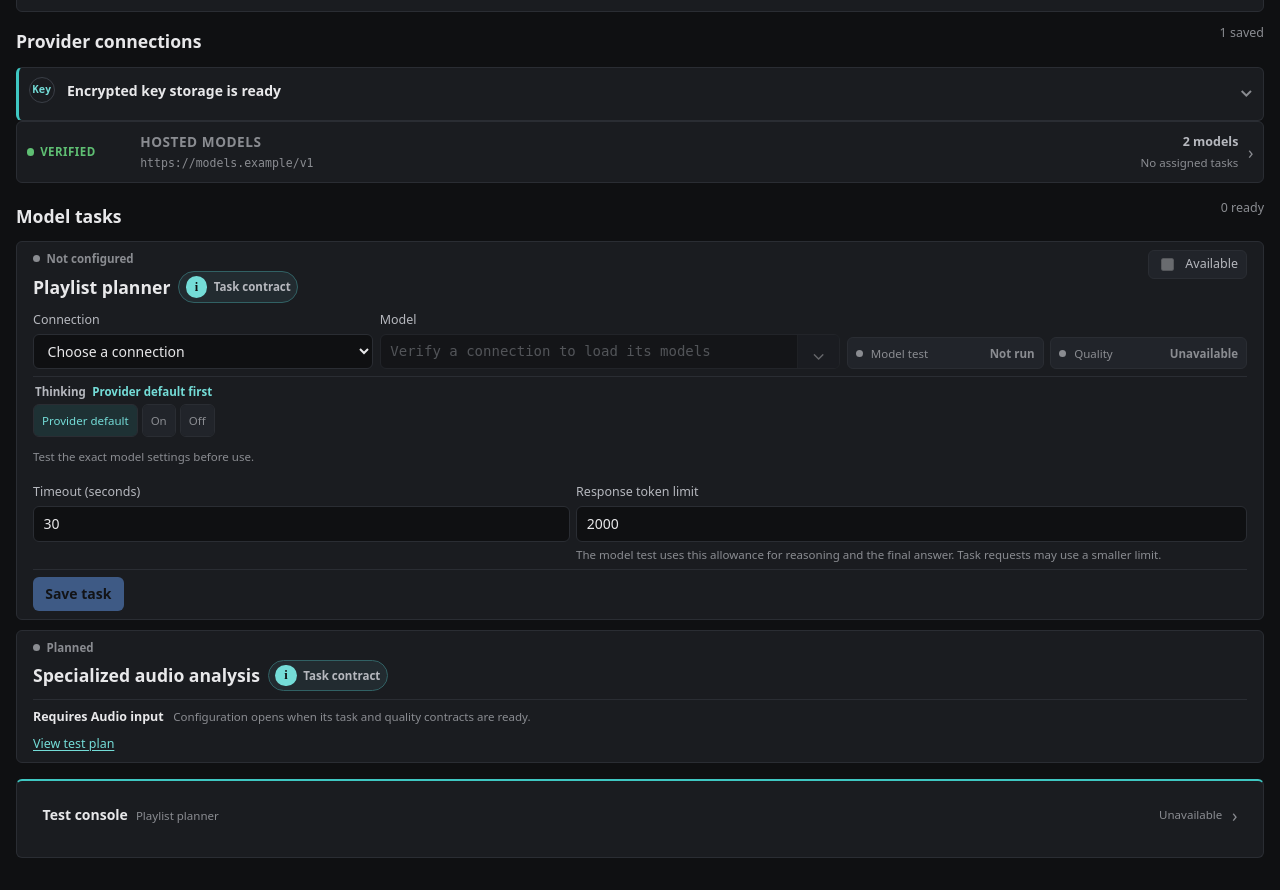
it: AssistantAiSetupView › keeps future capability-bound tasks visibly planned and locked
The image size is (1280, 890).
(page scrolled)
Check: the element "Specialized audio analysis" is shown, box [16, 630, 1264, 763]
Check: the text "Planned" is shown, box [47, 640, 94, 654]
Click the link "View test plan" at (74, 744), box [33, 735, 114, 754]
(page scrolled)
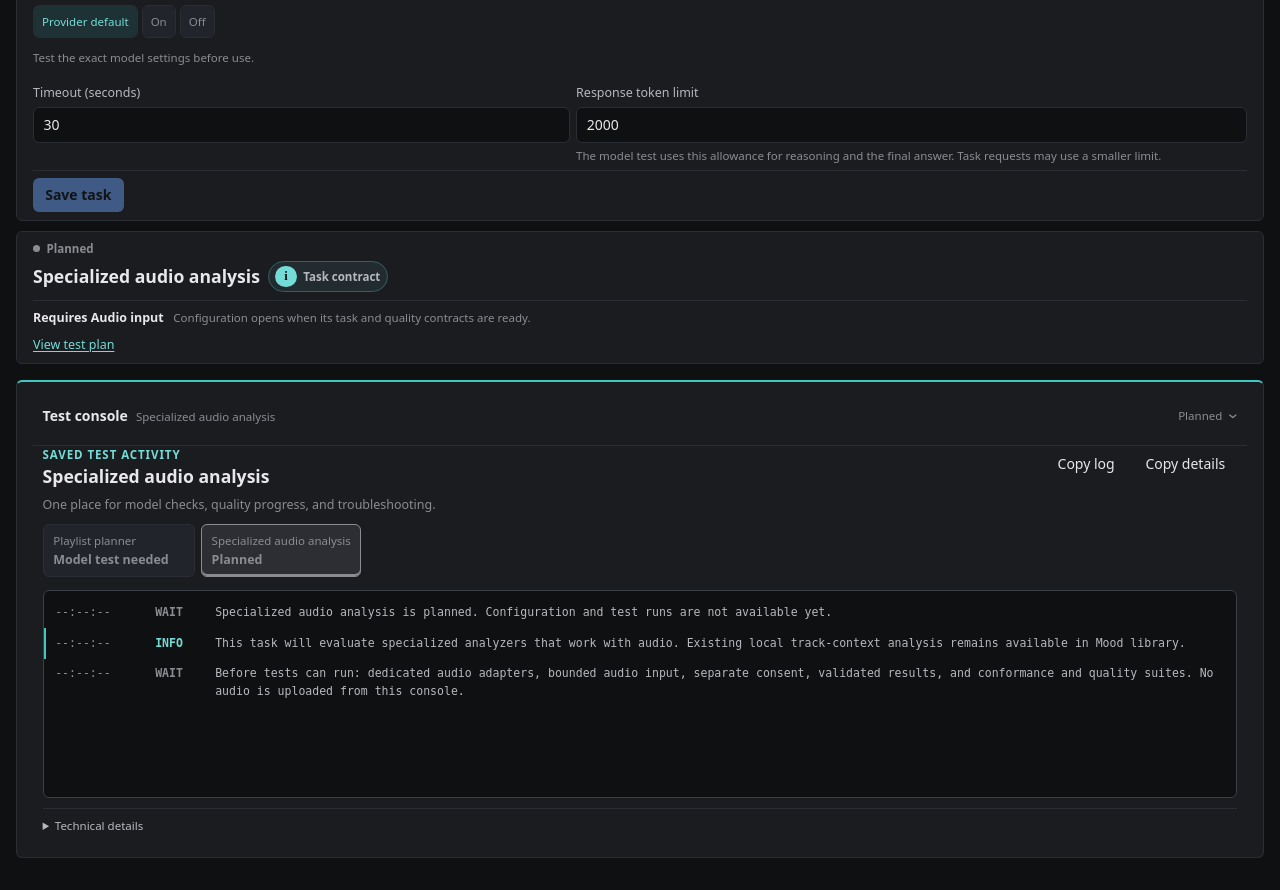
Check: the text "Configuration and test runs are not available yet" is shown, box [215, 605, 832, 619]
Check: the text "separate consent" is shown, box [215, 666, 1214, 698]
